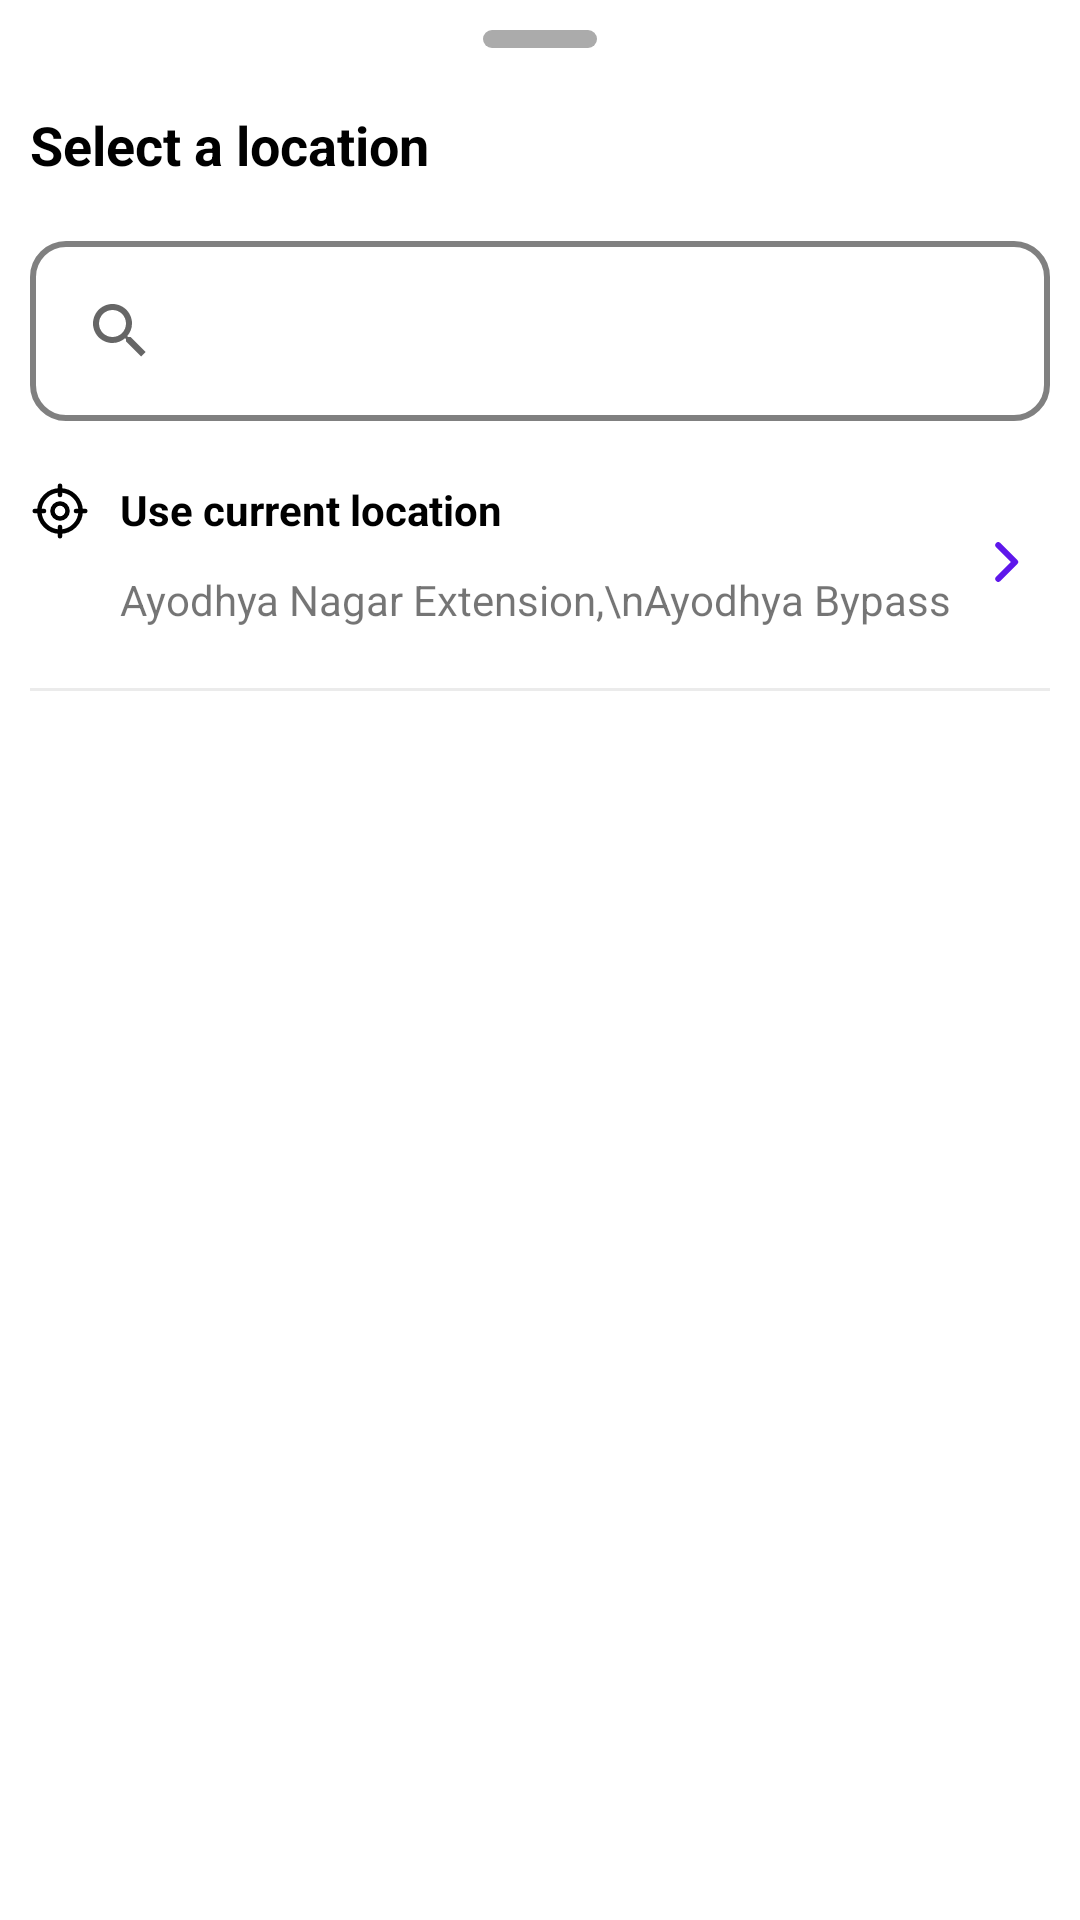

Icons on this 1080px x 1920px Android screen, each with its box as (x1=x1, y1=y1, x2=x2, y2=y2):
right arrow: (x1=995, y1=542, x2=1019, y2=582)
